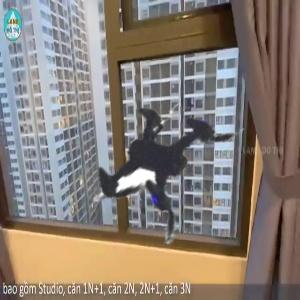drone: (12, 10, 296, 294)
